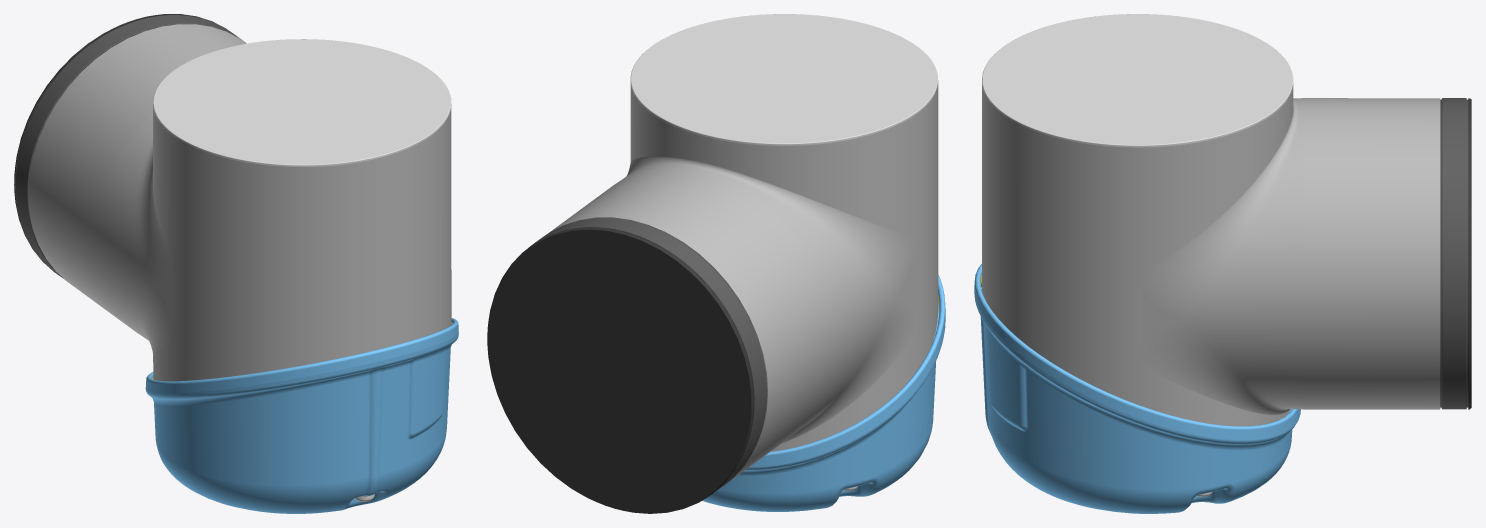
File: Joint3.obj
3 renders of one model, left to right at view 1: azimuth 30°, elevation 25°; view 2: azimuth 150°, elevation 25°; view 3: azimuth 270°, elevation 25°, orthographic. The views are drawn at different scales.
Visible parts, largest first — view 1: Solid2, Solid1; view 2: Solid2, Solid1; view 3: Solid2, Solid1.
Boxes of the visible parts, x1=… form: Solid2: x1=14, y1=14, x2=458, y2=513; Solid1: x1=153, y1=39, x2=451, y2=166; Solid2: x1=487, y1=15, x2=945, y2=513; Solid1: x1=630, y1=14, x2=938, y2=145; Solid2: x1=974, y1=14, x2=1471, y2=513; Solid1: x1=982, y1=14, x2=1293, y2=147.
Size of the model in its own units: 0.0787 by 0.1023 by 0.1197.
